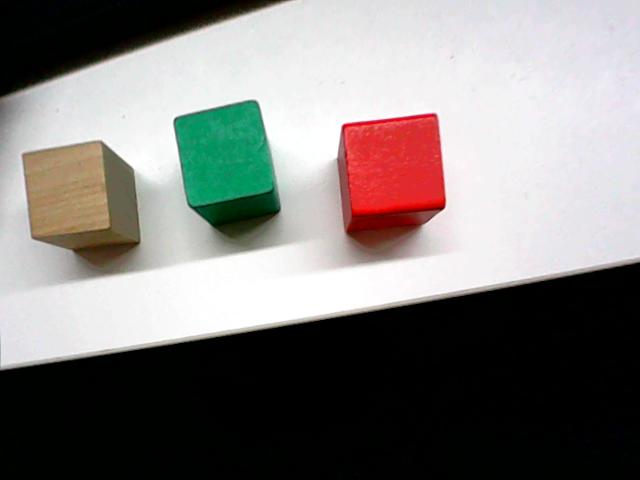green_box: (170, 95, 283, 229)
raw_box: (18, 140, 146, 250)
red_box: (333, 108, 449, 236)
